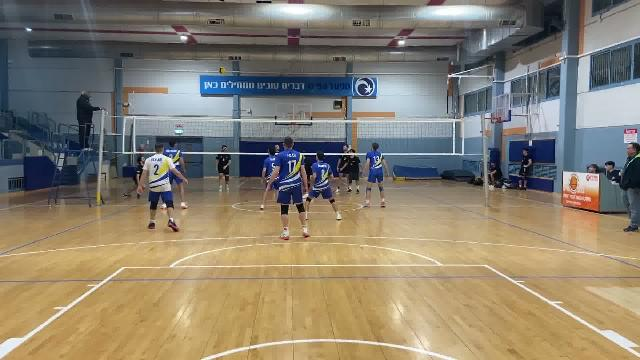ball: (219, 66, 227, 77)
